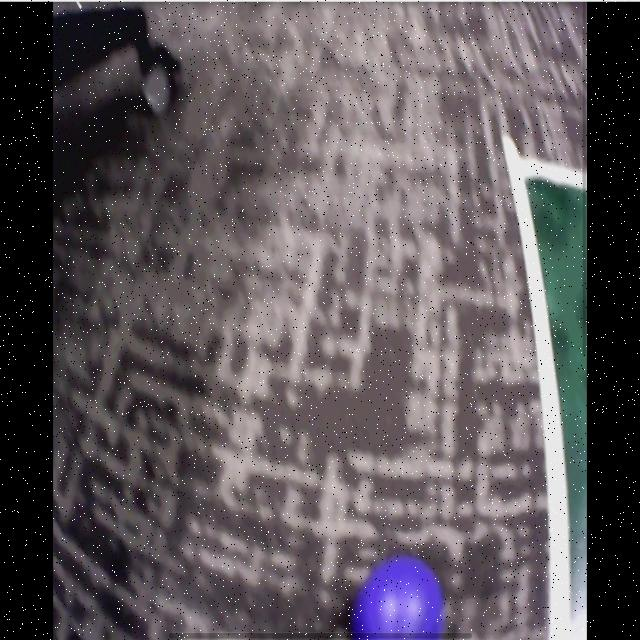ball: (353, 555, 441, 640)
